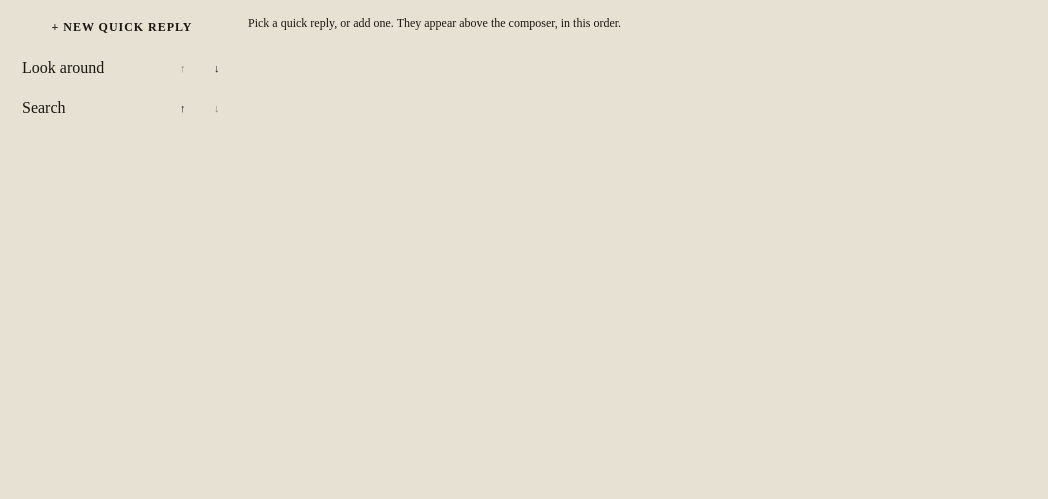
Test: save PUTs the whole set with the digest it read
Step 1. Click the button "Look around" → (88,68), box [12,51,164,85]
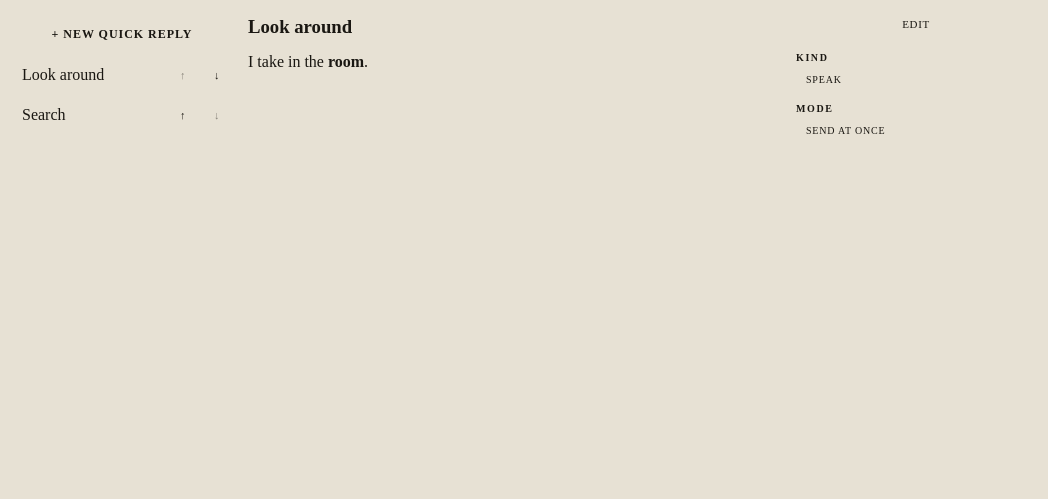
Step 2. Click the button "Edit" → (916,24), box [796,12,1036,36]
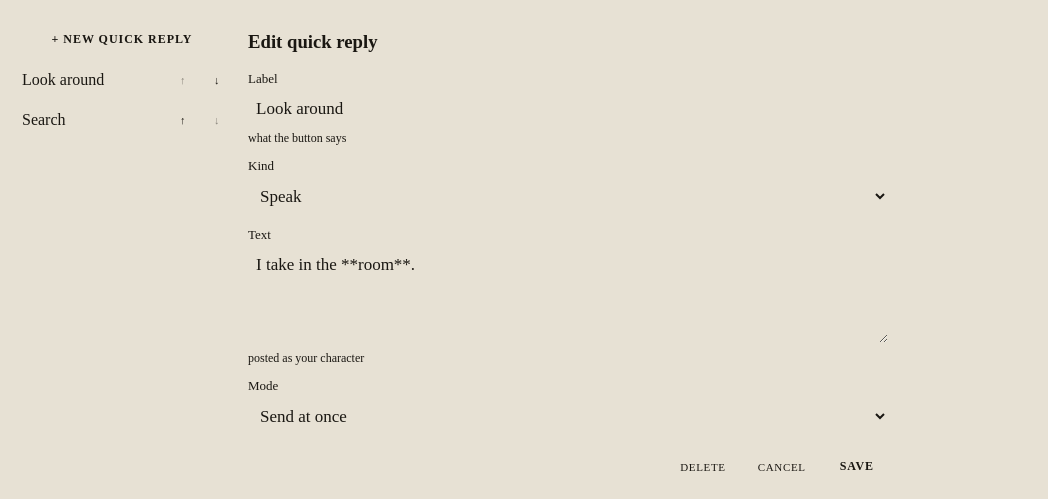
Step 3. Replace the text in the field labelled "Label" with "Look closer" → (568,109), box [248,91,888,127]
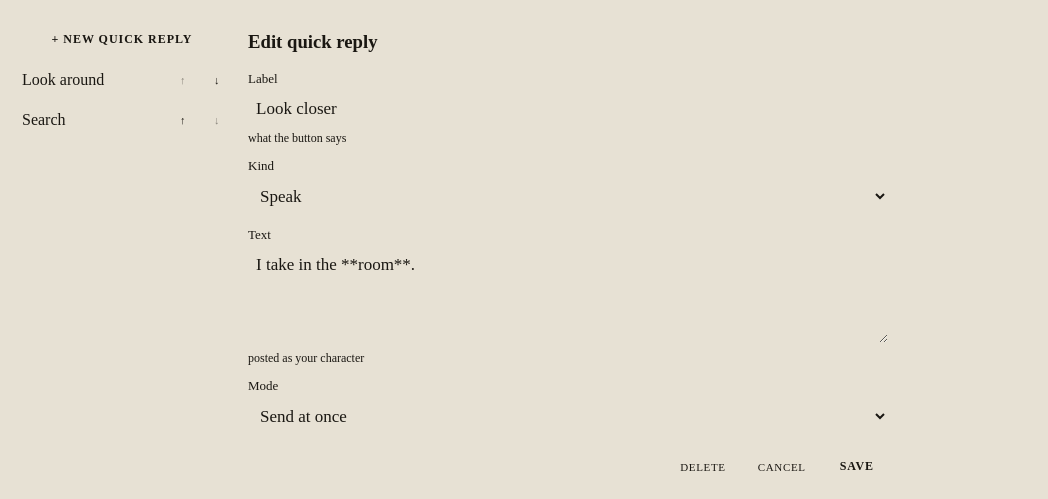
Step 4. Click the button "Save" → (857,467), box [826,451,888,482]
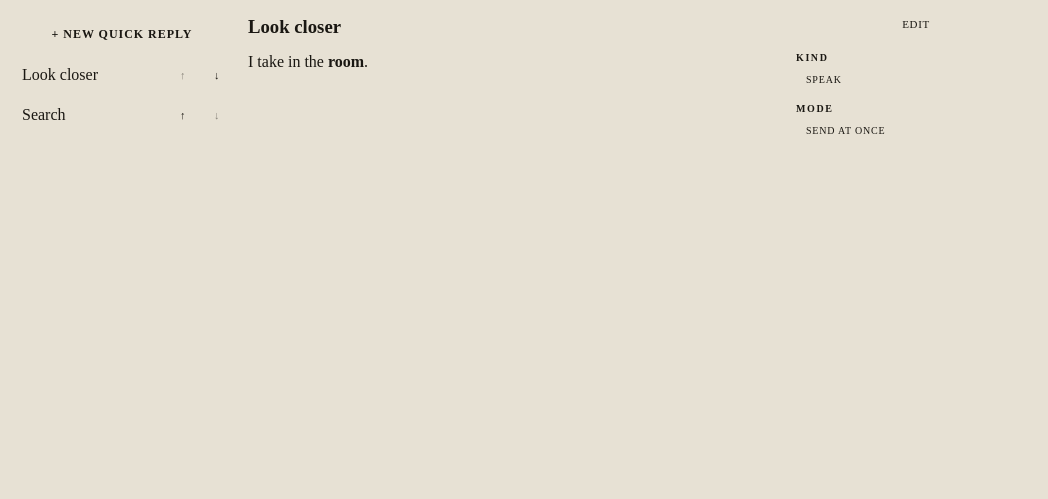
Now the heading "Look closer" is shown, box [248,16,341,37]
Now the label labelled "Label" is gone
